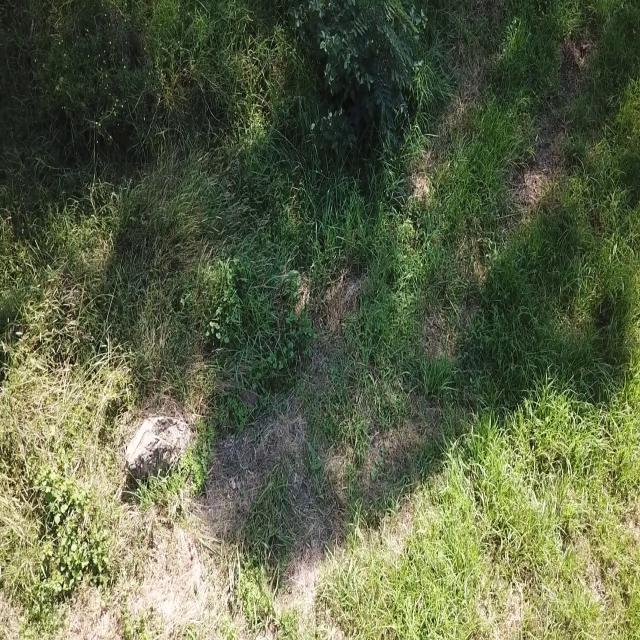Mysore-Thorn-Weed: (335, 0, 422, 163)
